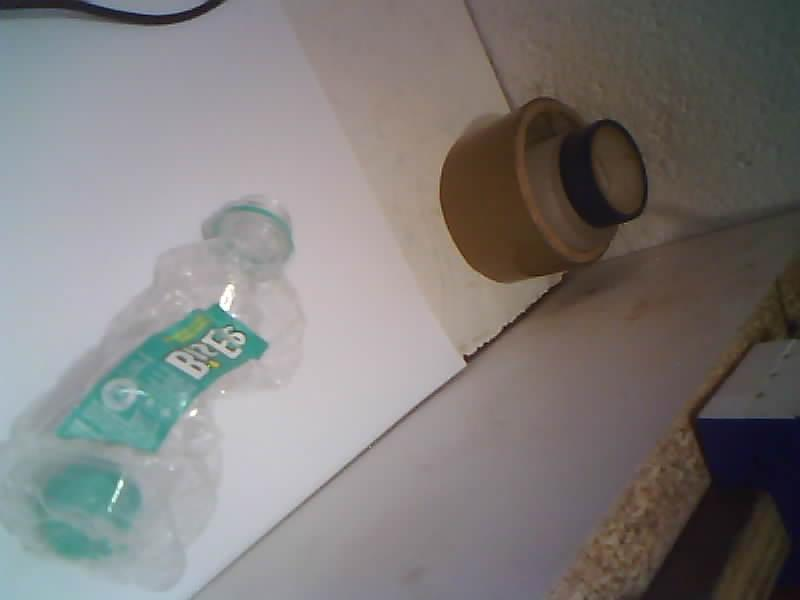non-biodegradable: (0, 203, 302, 588)
